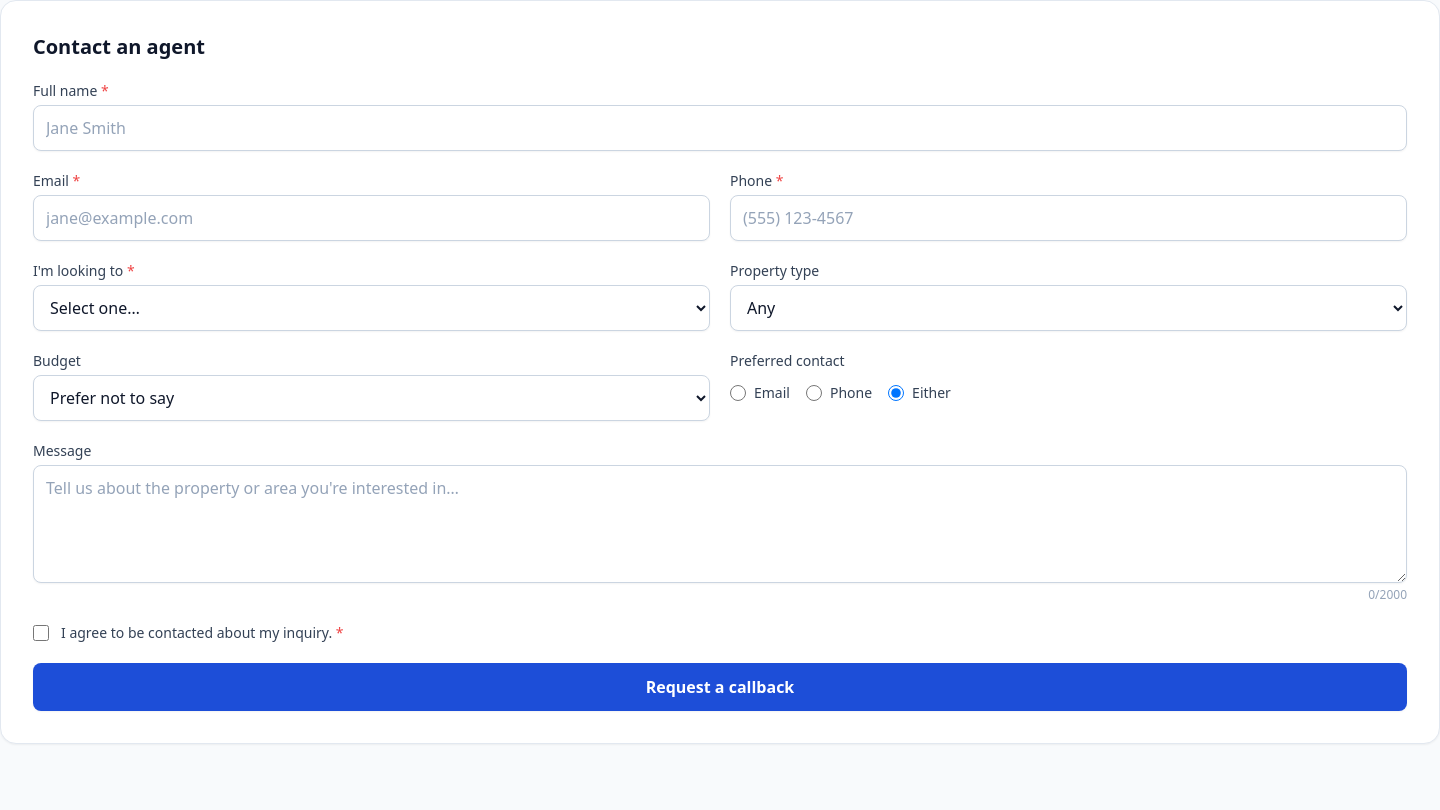
it: <LeadForm /> › shows validation errors and does not submit when empty
Click the button "Request a callback" at (720, 687), box [33,663,1407,711]
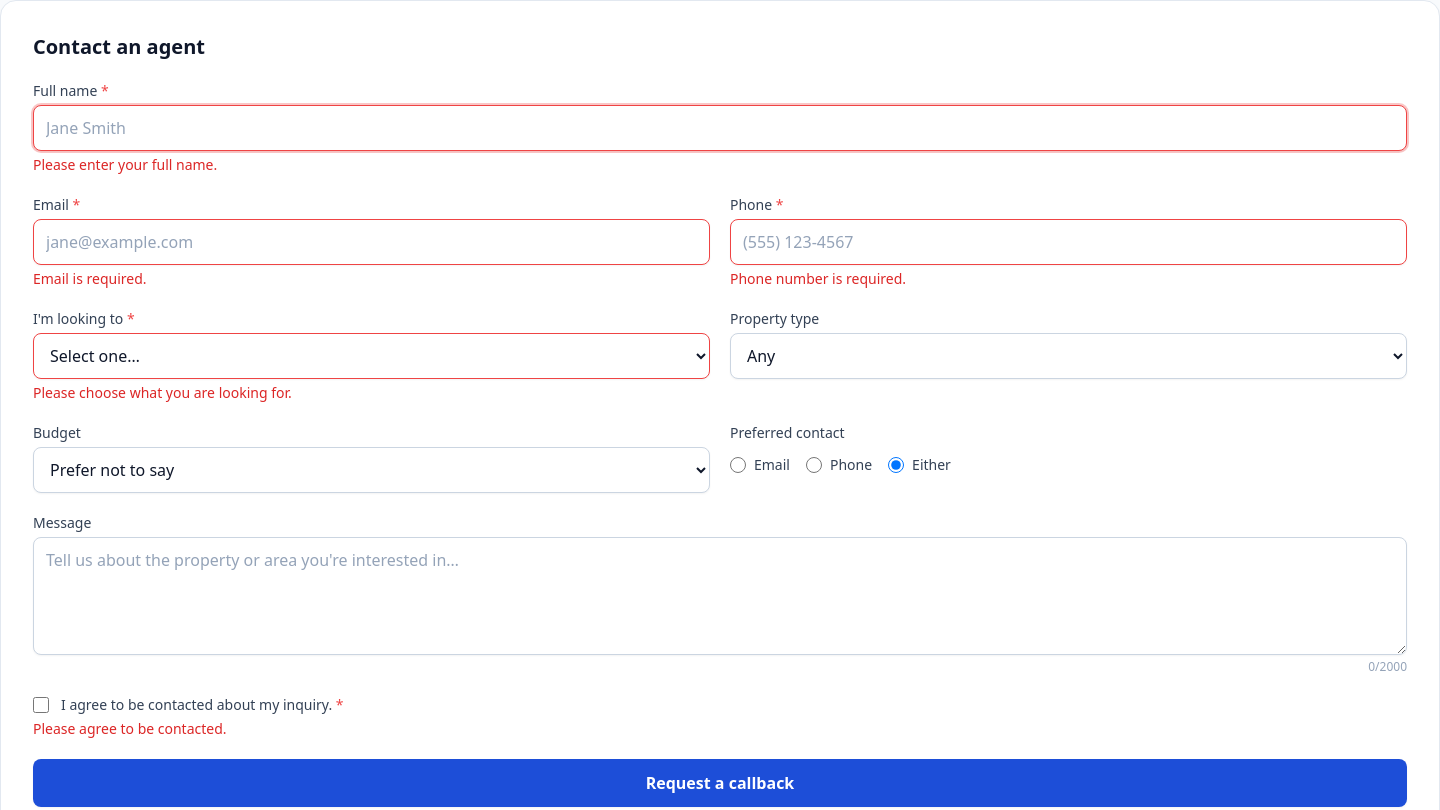
Now the text "Please enter your full name." is shown, box [33,155,217,174]
Now the text "Email is required." is shown, box [33,269,147,288]
Now the text "Please agree to be contacted." is shown, box [33,719,227,738]
